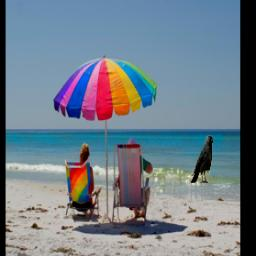Crow: (191, 135, 214, 183)
